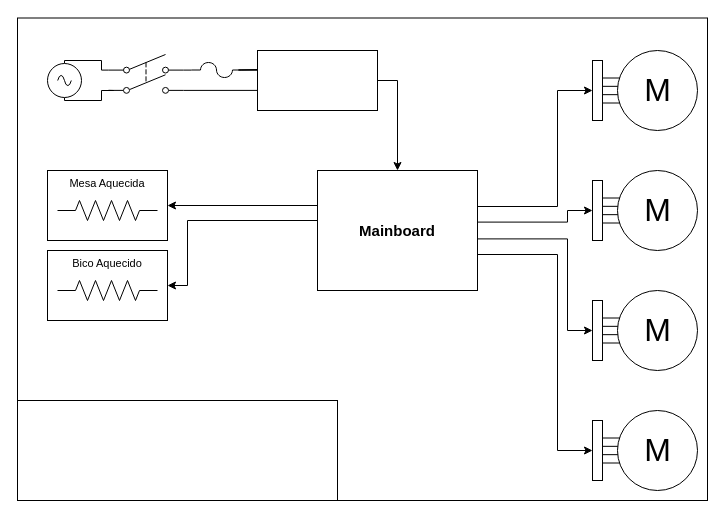
Image size: 725x518. Some labels were removed from this diagram. Here are the shapes that lost their labels. From the top down, the centre of each, then its label:
At (317,80): "Fonte 110V AC - 24V DC".
At (177,450): "Diagrama Elétrico Impressora 3D".
